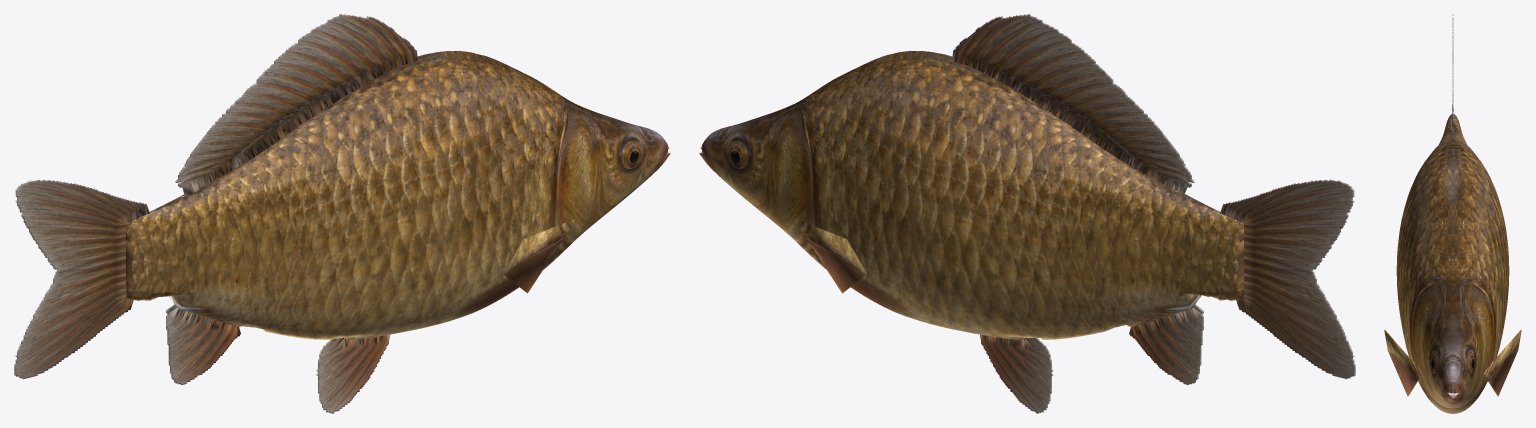
Rendered from crucian_carp.glb.
3 views of the same model, side by side, from view 1: azimuth 30°, elevation 25°; view 2: azimuth 150°, elevation 25°; view 3: azimuth 270°, elevation 25° (orthographic). The views are drawn at different scales.
Visible parts, largest first — view 1: crucian_carp_realistic.004; view 2: crucian_carp_realistic.004; view 3: crucian_carp_realistic.004.
Boxes of the visible parts, x1=… form: crucian_carp_realistic.004: x1=14, y1=14, x2=670, y2=413; crucian_carp_realistic.004: x1=699, y1=14, x2=1355, y2=413; crucian_carp_realistic.004: x1=1384, y1=14, x2=1521, y2=413.
Bounding box in the file's own units: 1 × 0.5797 × 0.2098.
Materials: 3 (3 with a texture image).
